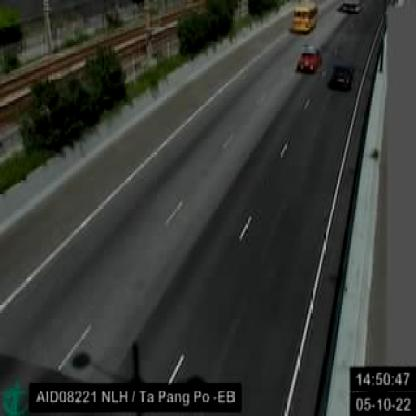Bus: (289, 2, 317, 34)
Car: (330, 63, 354, 90), (298, 47, 320, 74)
